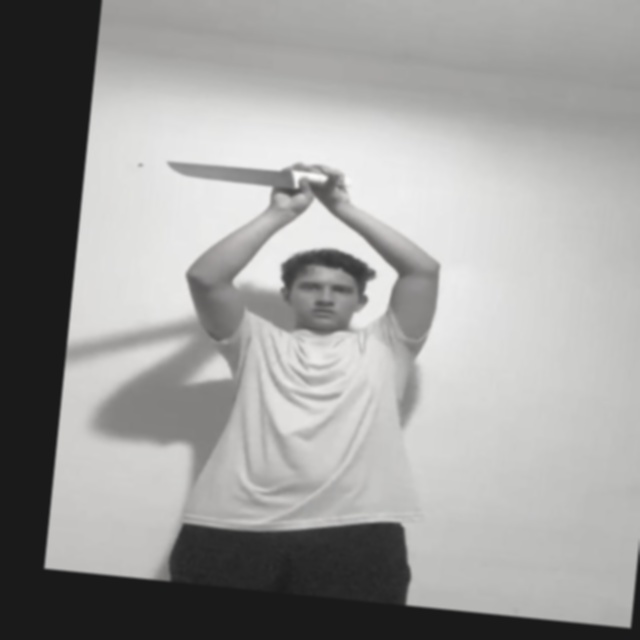Sharp-Object: (160, 154, 287, 192)
